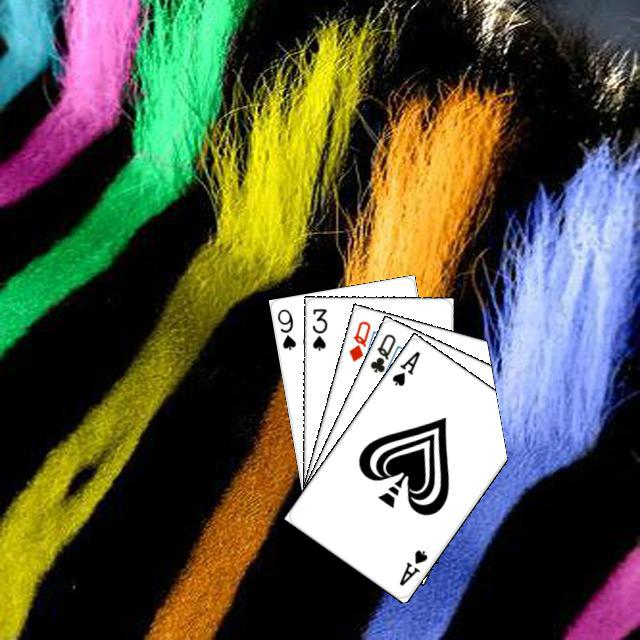3s: (307, 304, 329, 352)
9s: (272, 304, 298, 351)
As: (394, 545, 429, 588), (387, 346, 422, 388)
Qc: (365, 329, 402, 382)
Qd: (344, 316, 372, 363)
